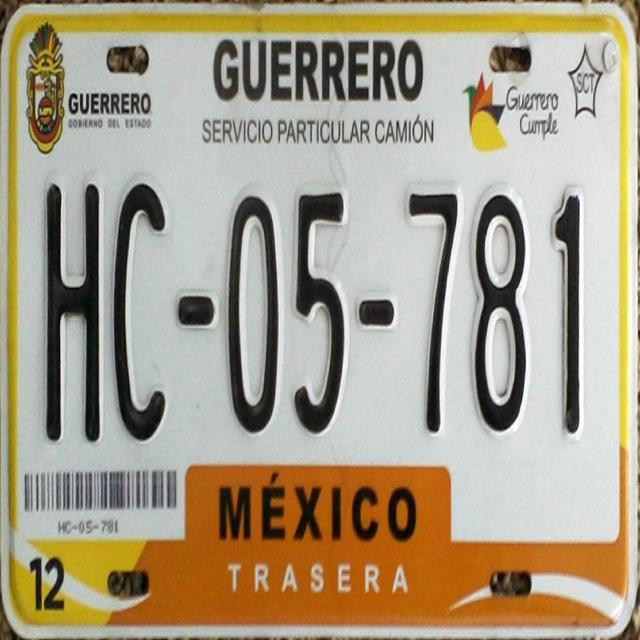placa: (25, 156, 621, 462)
